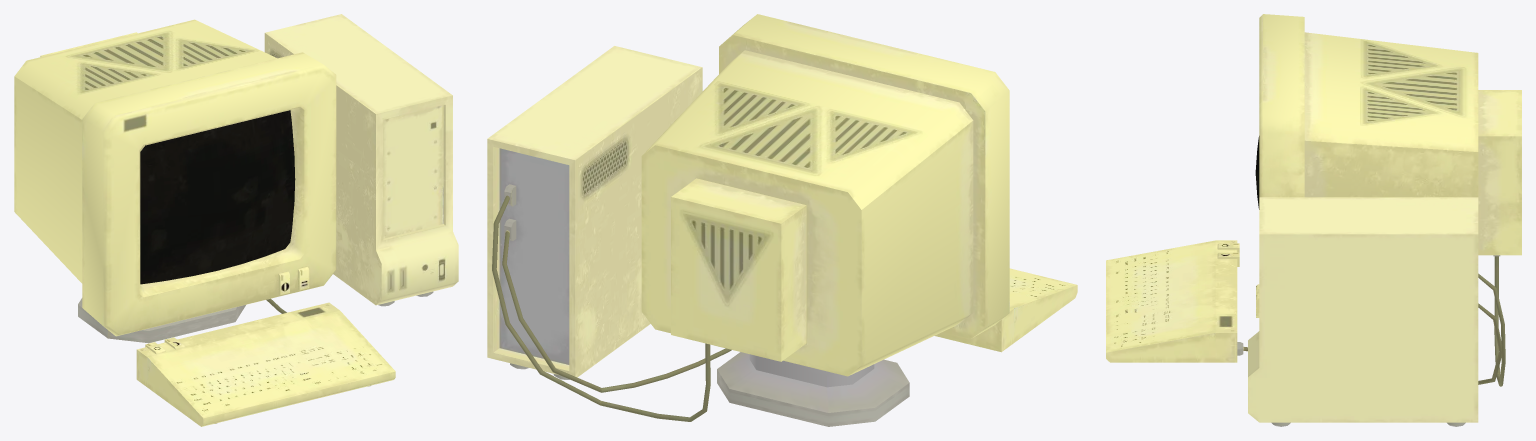
Rendered from computer-transformed.glb.
The picture shows the model from 3 angles, left to right: view 1: azimuth 30°, elevation 25°; view 2: azimuth 150°, elevation 25°; view 3: azimuth 270°, elevation 25°; orthographic projection. The views are drawn at different scales.
Visible parts, largest first — view 1: Cube, Cube.001; view 2: Cube, Cube.001; view 3: Cube, Cube.001.
Part boxes in pixels (x1=…): Cube: x1=14, y1=14, x2=458, y2=426; Cube.001: x1=145, y1=266, x2=309, y2=354; Cube: x1=487, y1=14, x2=1077, y2=426; Cube.001: x1=492, y1=184, x2=731, y2=421; Cube: x1=1106, y1=14, x2=1521, y2=426; Cube.001: x1=1217, y1=243, x2=1505, y2=386.
Bounding box in the file's own units: 361 × 260 × 380.
Materials: 1 (1 with a texture image).
